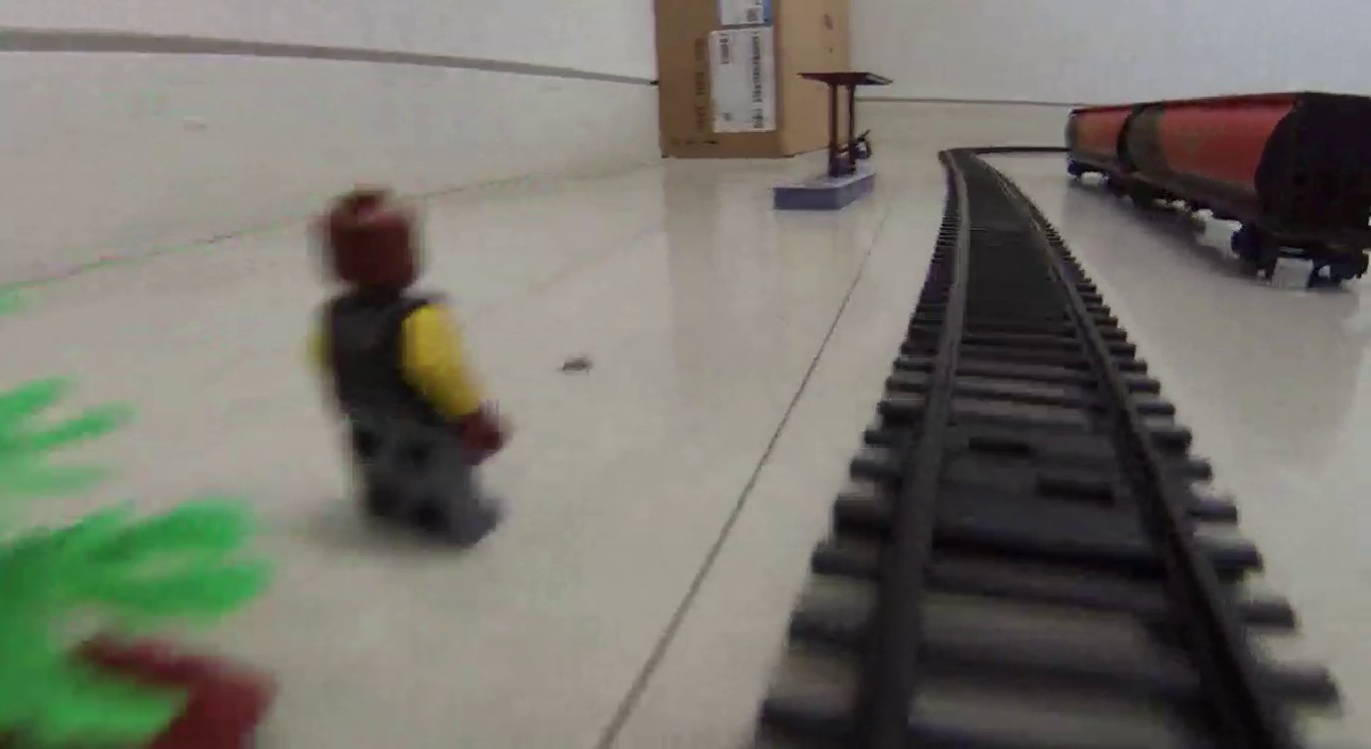people: (306, 185, 513, 553)
